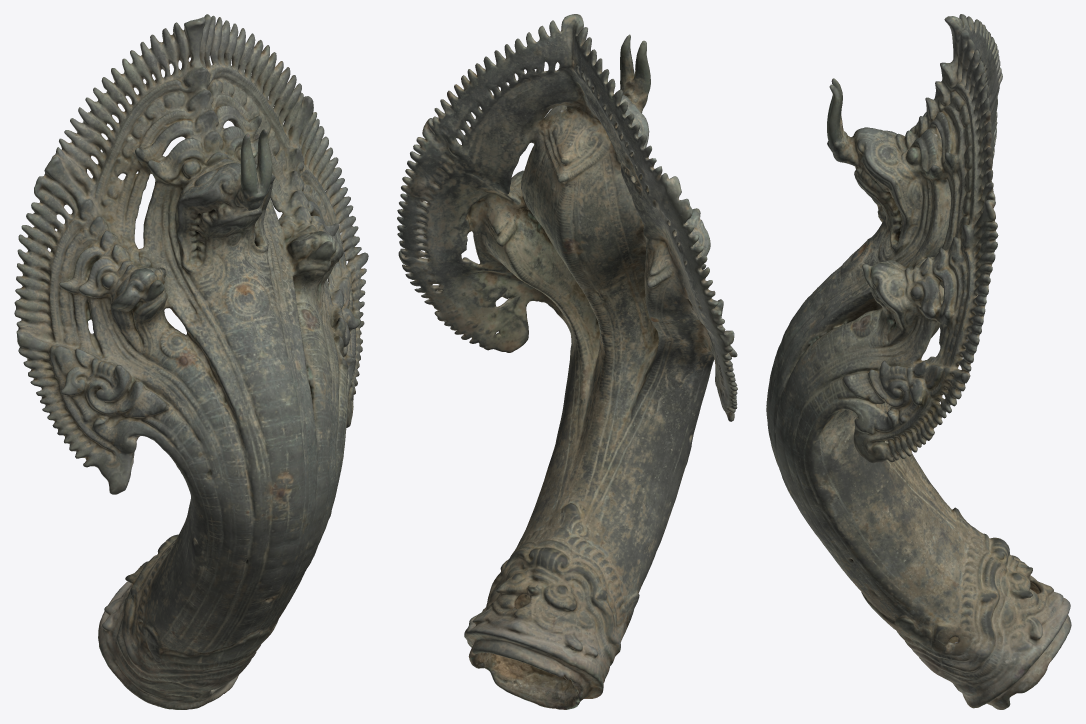
File: naga-3d-model.glb
3 renders of one model, left to right at view 1: azimuth 30°, elevation 25°; view 2: azimuth 150°, elevation 25°; view 3: azimuth 270°, elevation 25°, orthographic. The views are drawn at different scales.
Parts seen in each view (by area): view 1: Object_2, Object_3, Object_4; view 2: Object_2, Object_3, Object_4; view 3: Object_2, Object_3.
Boxes of the visible parts, x1,y1,x2,y2 form: Object_2: [14, 14, 368, 709]; Object_3: [17, 18, 364, 693]; Object_4: [17, 130, 295, 683]; Object_2: [397, 14, 737, 709]; Object_3: [400, 14, 734, 706]; Object_4: [555, 158, 735, 625]; Object_2: [766, 18, 1011, 709]; Object_3: [768, 14, 1071, 708].
Bounding box in the file's own units: 0.1559 × 0.2993 × 0.1215.
Materials: 1 (1 with a texture image).
